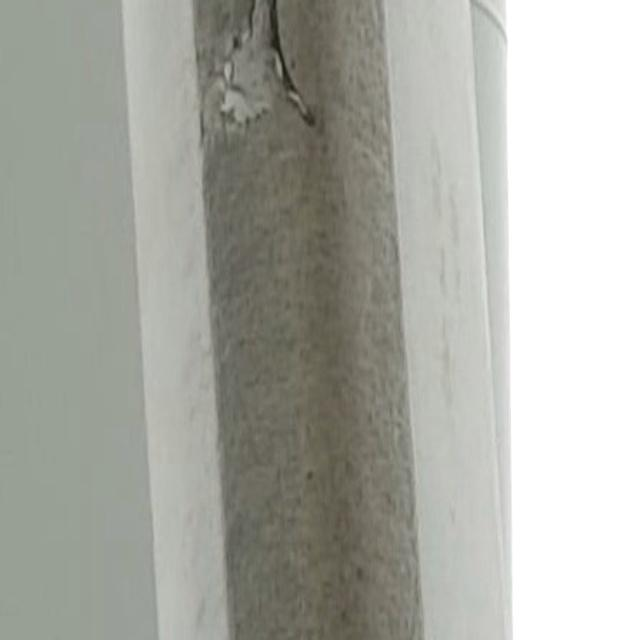EROSION: (201, 4, 384, 160)
